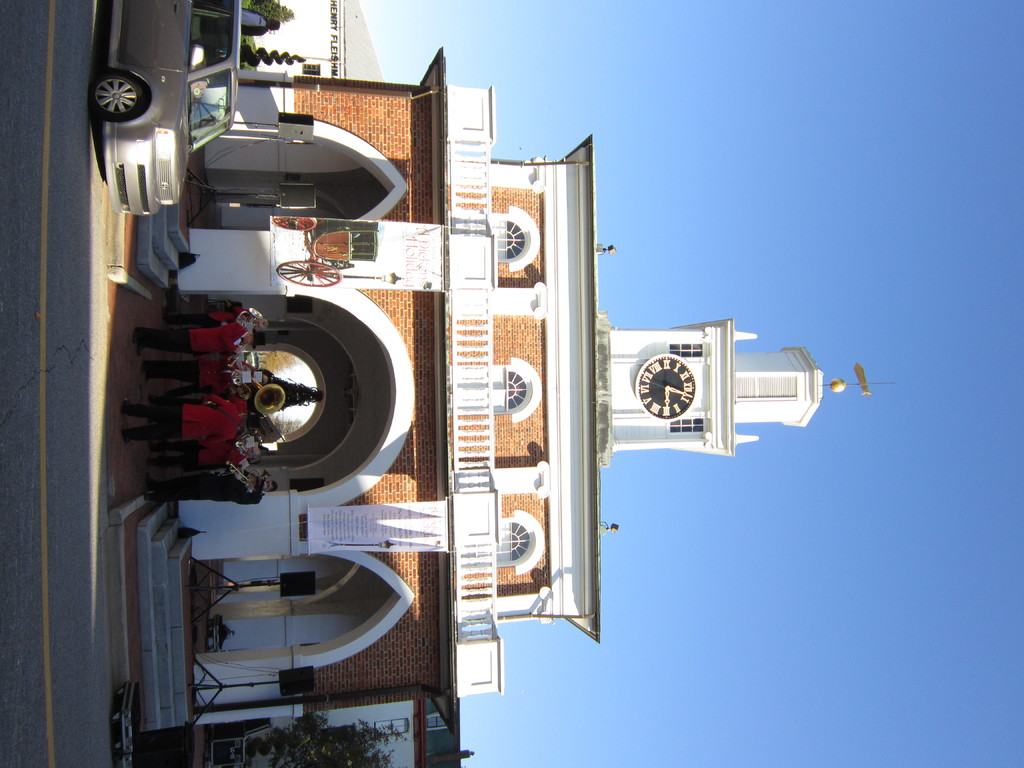Window: (493, 510, 544, 573), (302, 61, 319, 74)
